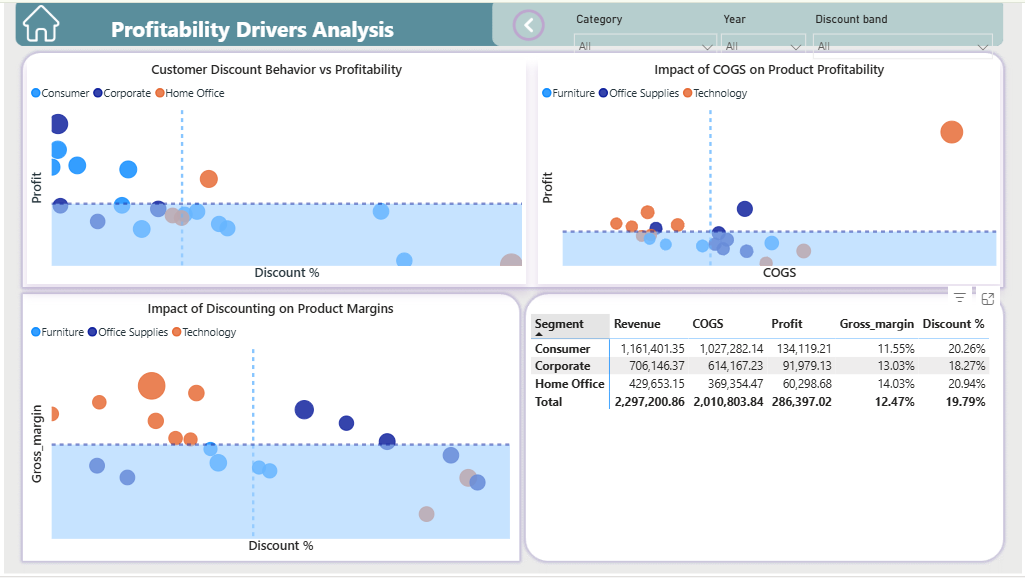

Layout of this report page (visuals, bound fields, positions):
{"tool":"powerbi","page":{"name":"Profitability Drivers Analysis","canvas":[1280,720],"ordinal":4},"visuals":[{"type":"scatterChart","title":"Impact of Discounting on Product Margins","fields":{"Size":["My Measures.Revenue"],"X":["My Measures.Discount %"],"Y":["My Measures.Gross_margin"],"Category":["Product Dim.Product Name"],"Series":["Product Dim.Category"]},"box":[29.1,372.6,611.8,324.7],"z":0},{"type":"scatterChart","title":"Customer Discount Behavior vs Profitability","fields":{"Size":["My Measures.Revenue"],"X":["My Measures.Discount %"],"Category":["Customer dim.Customer Name"],"Y":["My Measures.Total_Profit"],"Series":["Customer dim.Segment"]},"box":[29.1,71.8,627.2,282],"z":1000},{"type":"scatterChart","title":"Impact of COGS on Product Profitability","fields":{"Size":["My Measures.Revenue"],"Y":["My Measures.Total_Profit"],"Category":["Product Dim.Product Name"],"X":["My Measures.COGS"],"Series":["Product Dim.Category"]},"box":[671.6,71.8,581,282],"z":2000},{"type":"pivotTable","fields":{"Rows":["Customer dim.Segment"],"Values":["My Measures.Revenue","My Measures.COGS","My Measures.Total_Profit","My Measures.Gross_margin","My Measures.Discount %"]},"box":[656.6,385.9,596.2,293.8],"z":3000},{"type":"slicer","fields":{"Values":["Calendar Table.Year"]},"box":[891.4,2.9,126.7,60.5],"z":4000},{"type":"slicer","fields":{"Values":["Retails Dataset.Discount band"]},"box":[1006.6,2.9,246.2,69.1],"z":5000},{"type":"slicer","fields":{"Values":["Product Dim.Category"]},"box":[705.6,2.9,200.2,60.5],"z":6000},{"type":"image","box":[627.8,5.8,61.9,43.2],"z":8000},{"type":"image","box":[17.3,2.9,57.6,46.1],"z":9000},{"type":"textbox","box":[129.6,5.8,383,53.3],"z":10000}]}

Visuals, with their boxes in screenshot pixels (x1, y1, x2, y2), scaled from the page's 1280x720 canvas onto the 1025x578 screenshot:
"Impact of Discounting on Product Margins" scatterChart: [23,299,513,560]
"Customer Discount Behavior vs Profitability" scatterChart: [23,58,526,284]
"Impact of COGS on Product Profitability" scatterChart: [538,58,1003,284]
pivotTable - Customer dim.Segment x My Measures.Revenue: [526,310,1003,546]
slicer - Calendar Table.Year: [714,2,815,51]
slicer - Retails Dataset.Discount band: [806,2,1003,58]
slicer - Product Dim.Category: [565,2,725,51]
image: [503,5,552,39]
image: [14,2,60,39]
textbox: [104,5,410,47]
